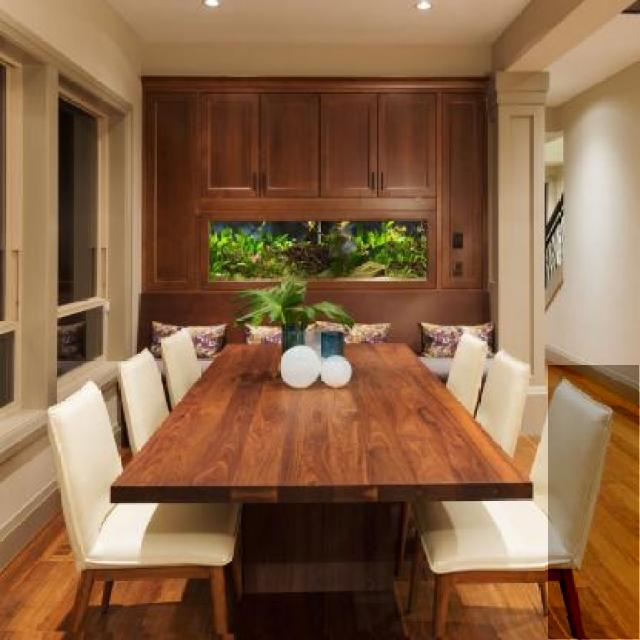floor: (0, 514, 237, 640), (229, 563, 592, 640), (549, 366, 639, 639)
